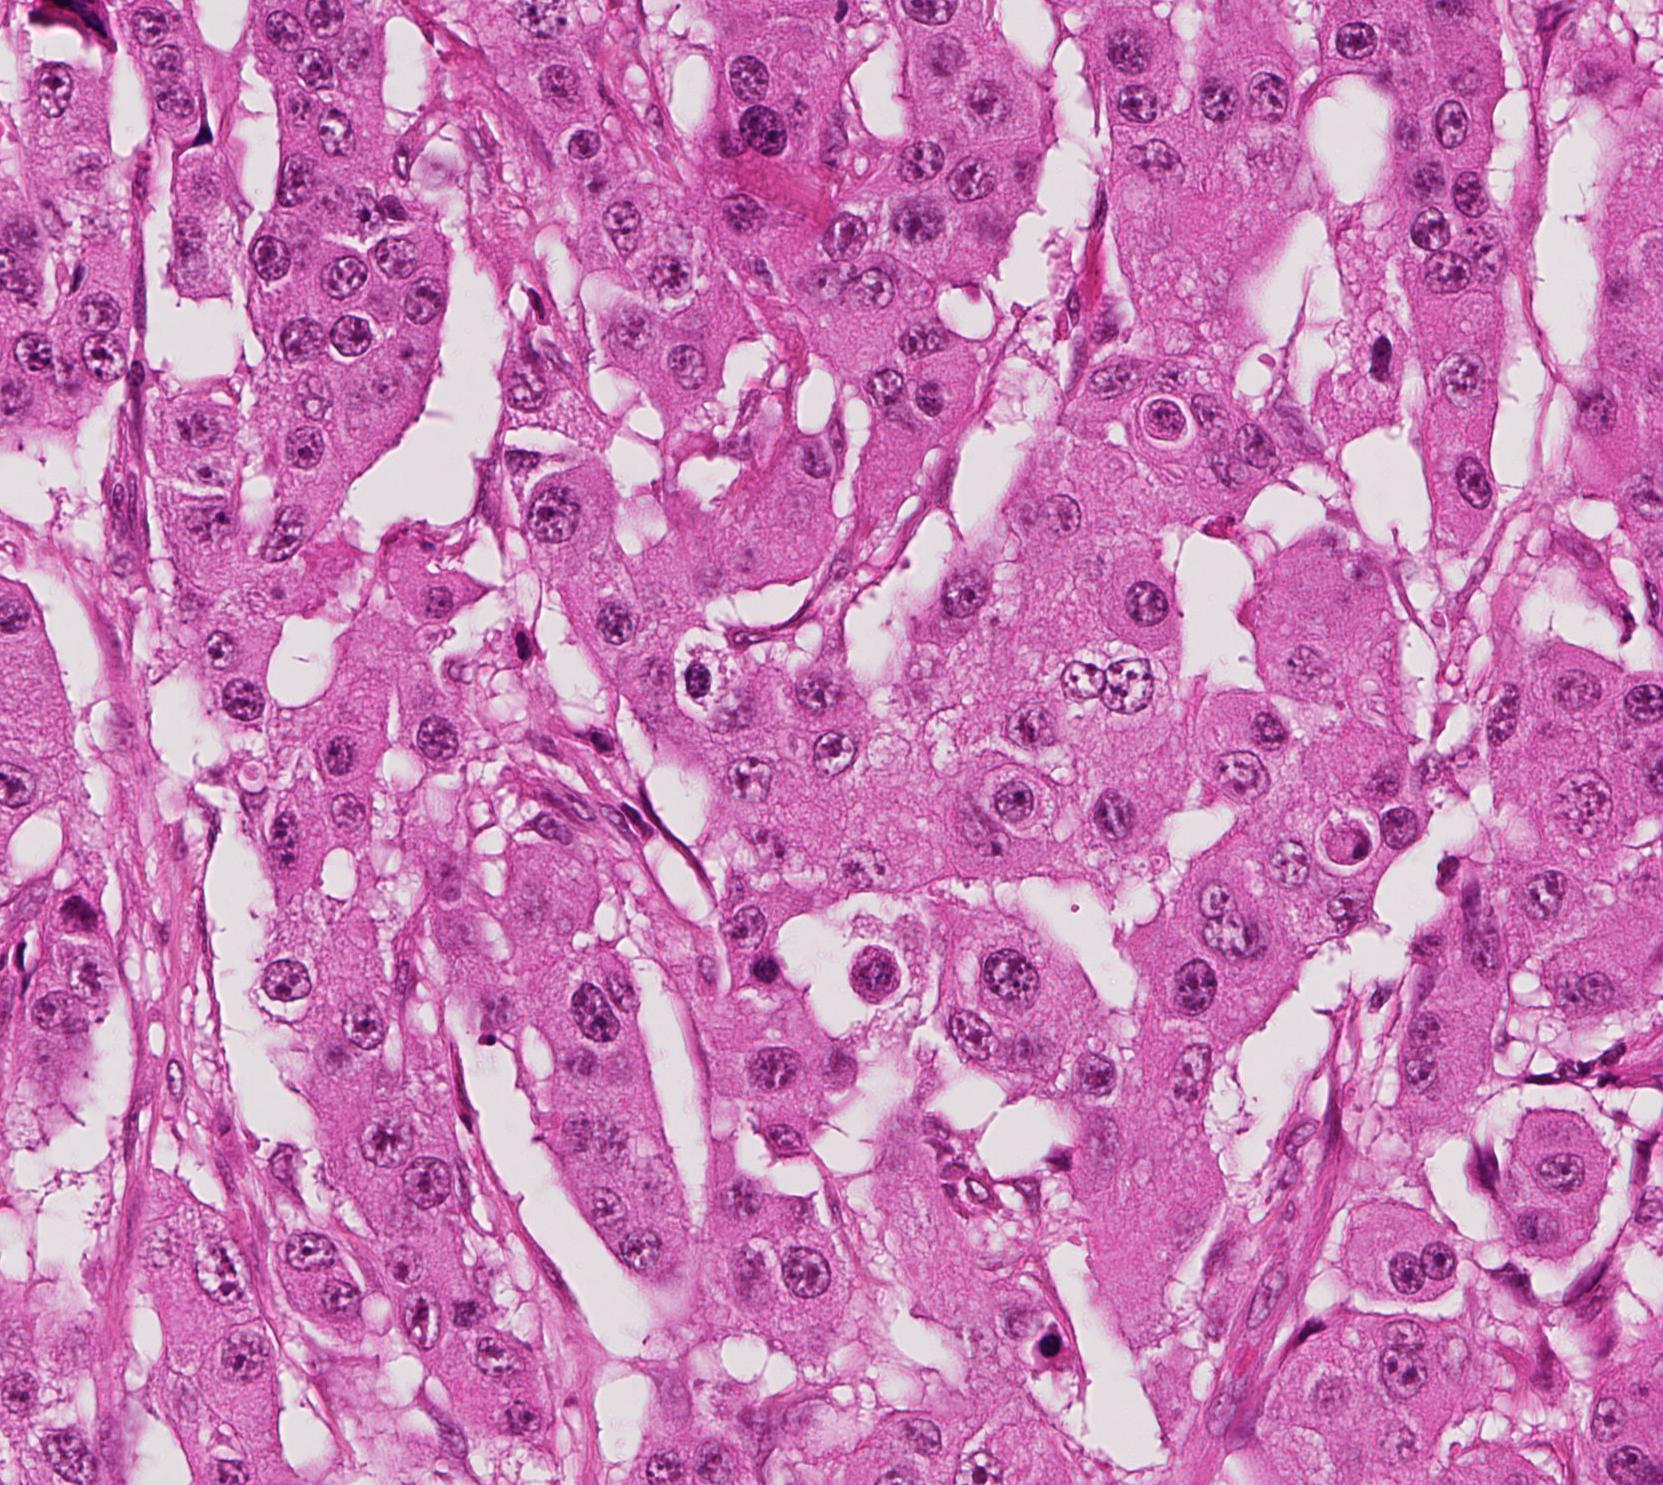mitosis: (52, 882, 112, 942)
